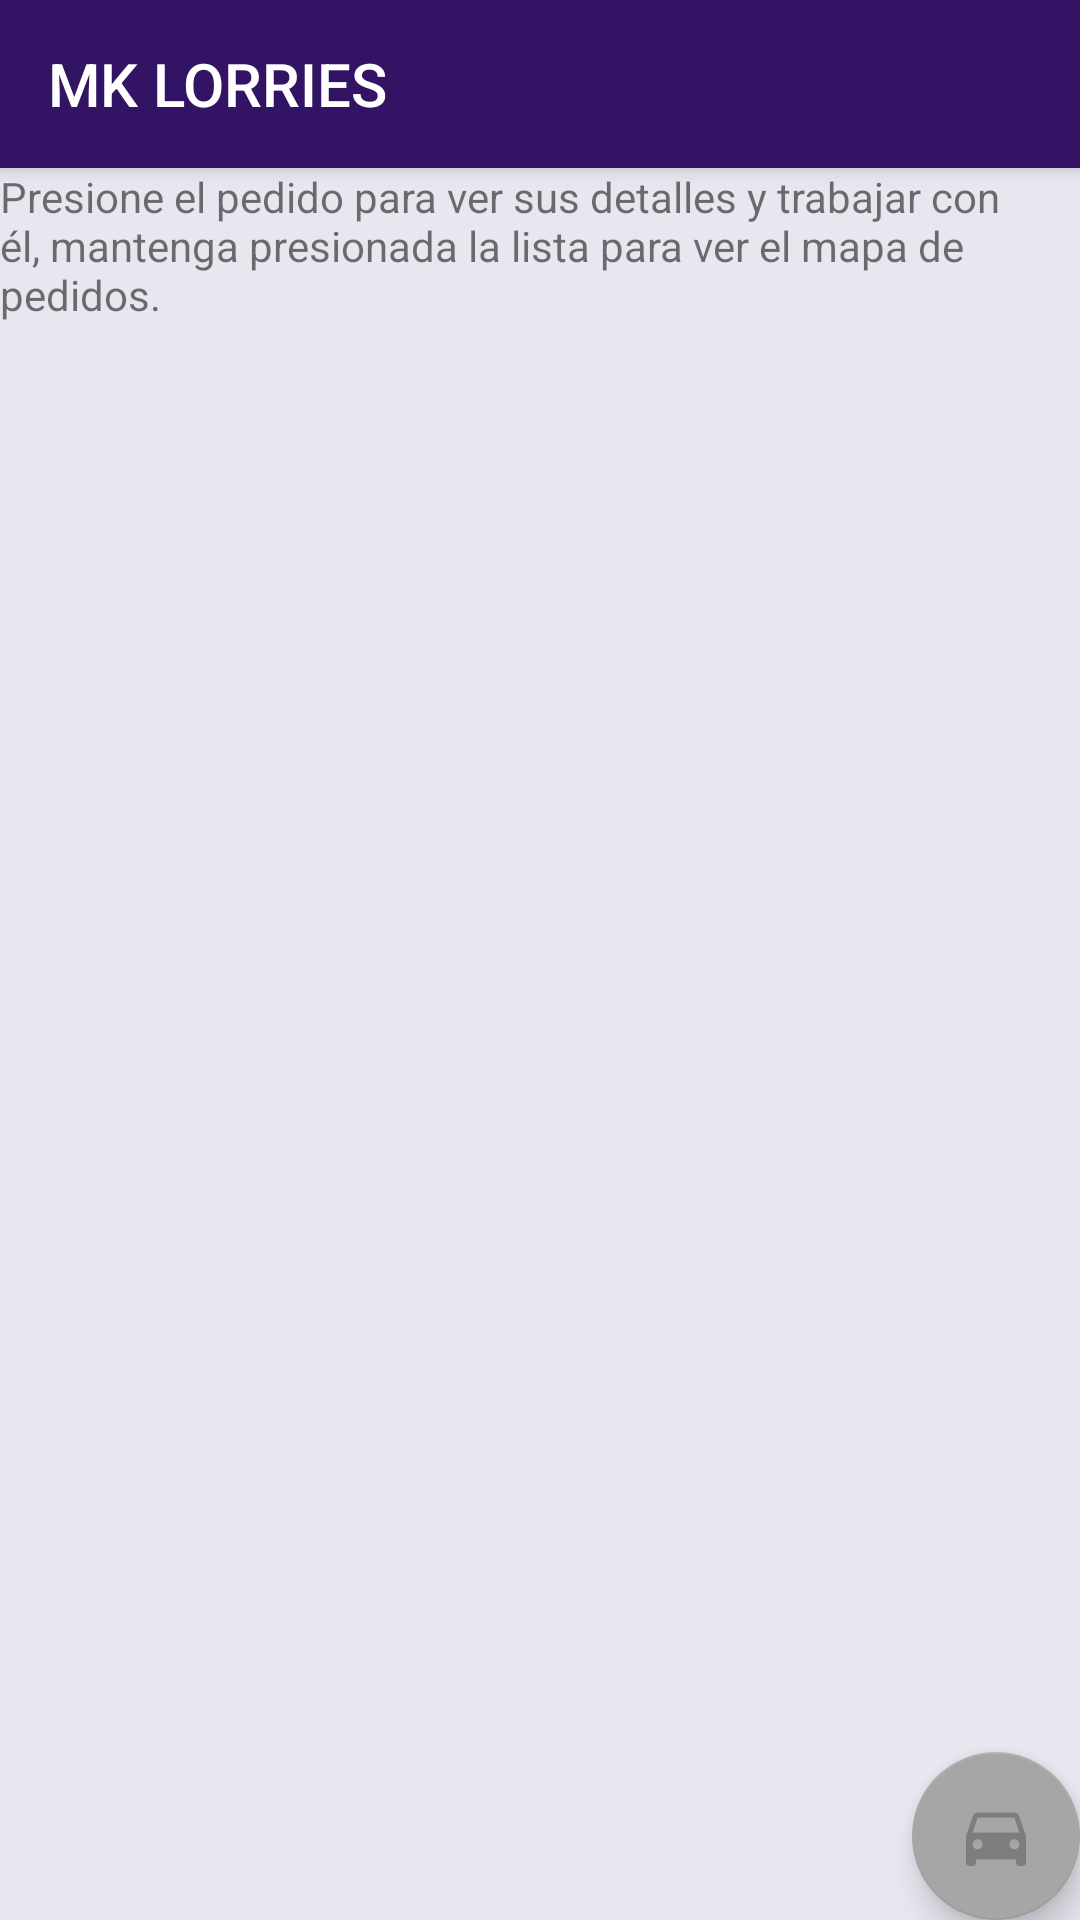

Where icons sit on this 1080w x 1920h app screen, as Rect(x1, y1, x2, y2):
auto: Rect(912, 1752, 1080, 1920)
